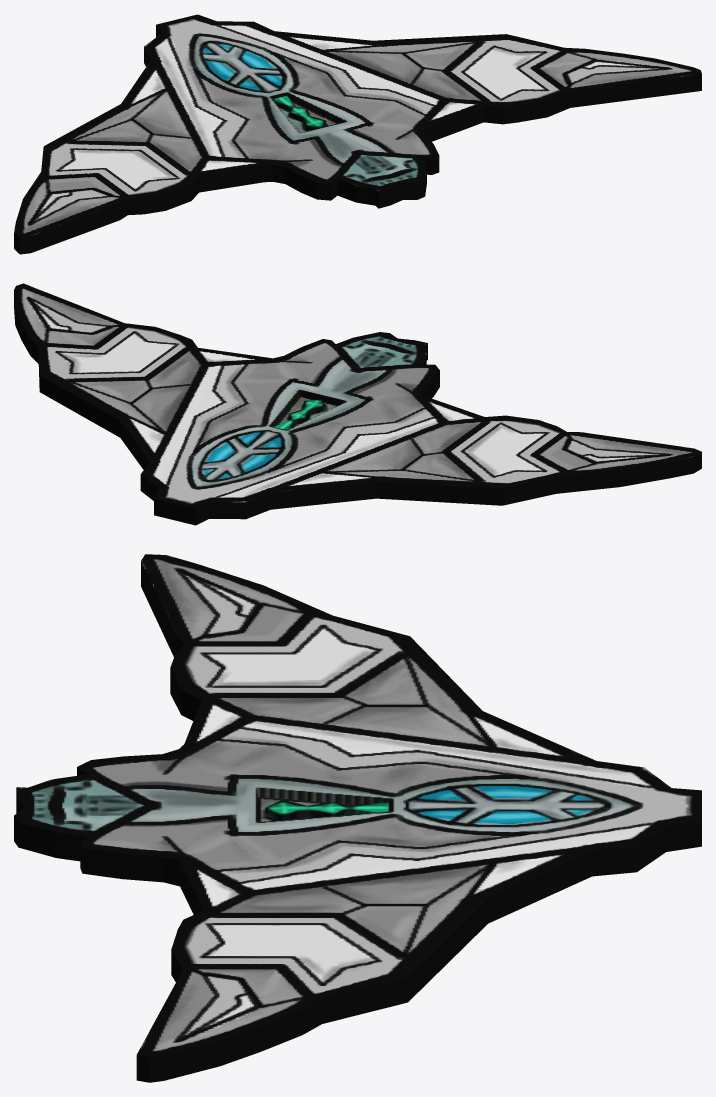
Rendered from SpaceShip.fbx.
3 renders of one model, top to bottom at view 1: azimuth 30°, elevation 25°; view 2: azimuth 150°, elevation 25°; view 3: azimuth 270°, elevation 25°, orthographic. The views are drawn at different scales.
Parts seen in each view (by area): view 1: Cube.001; view 2: Cube.001; view 3: Cube.001.
Part boxes in pixels (bbox=[...]): Cube.001: bbox=[14, 14, 701, 254]; Cube.001: bbox=[14, 283, 701, 525]; Cube.001: bbox=[14, 554, 701, 1082].
Size of the model in its own units: 1365 by 32.28 by 789.
1 material, 1 textured.
